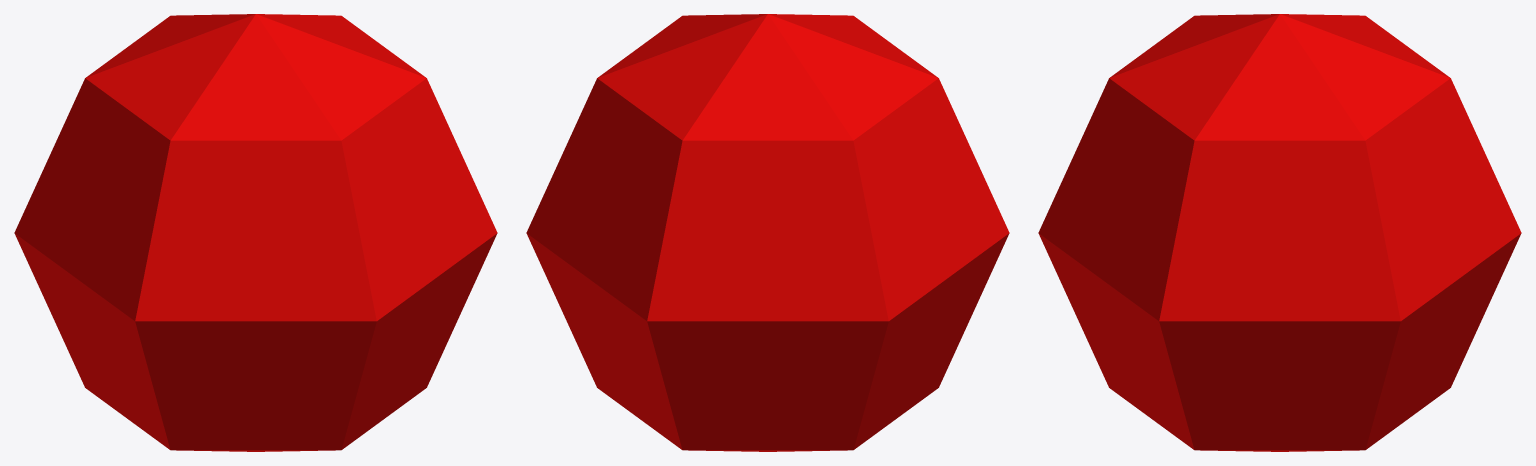
The model's file is NarizPayaso.fbx.
3 views of the same model, side by side, from view 1: azimuth 30°, elevation 25°; view 2: azimuth 150°, elevation 25°; view 3: azimuth 270°, elevation 25° (orthographic).
Parts seen in each view (by area): view 1: NarizPayaso; view 2: NarizPayaso; view 3: NarizPayaso.
Part boxes in pixels (x1,y1,x2,y2): NarizPayaso: (14, 14, 497, 451); NarizPayaso: (526, 14, 1009, 451); NarizPayaso: (1038, 14, 1521, 451).
Size of the model in its own units: 6.32 by 7.3 by 7.3.
